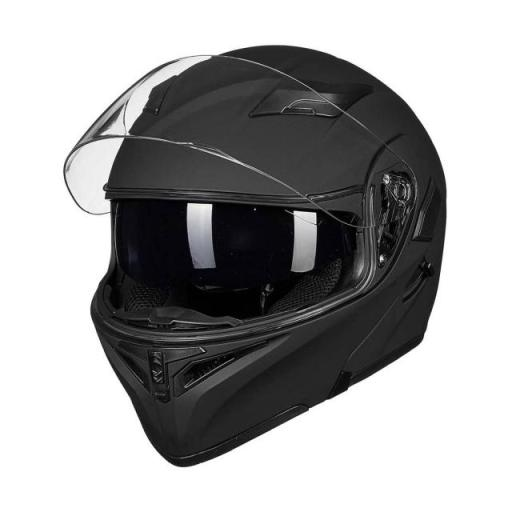Helmet: (65, 47, 445, 465)
